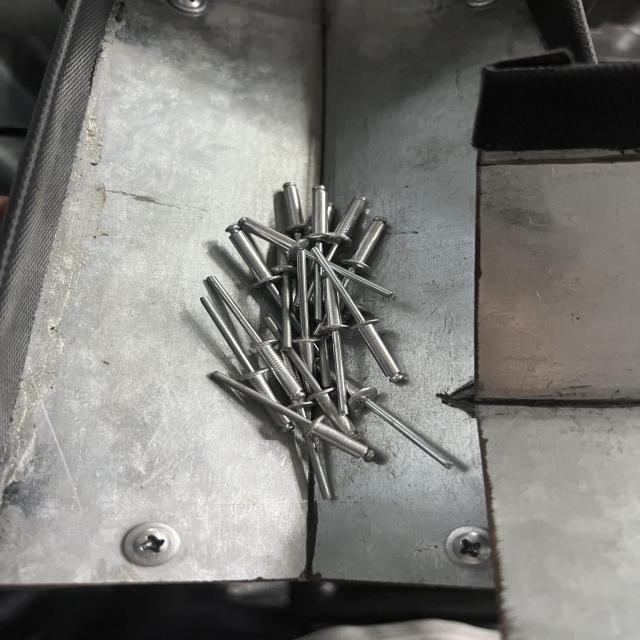rivet: (208, 369, 379, 464), (312, 247, 413, 382)
